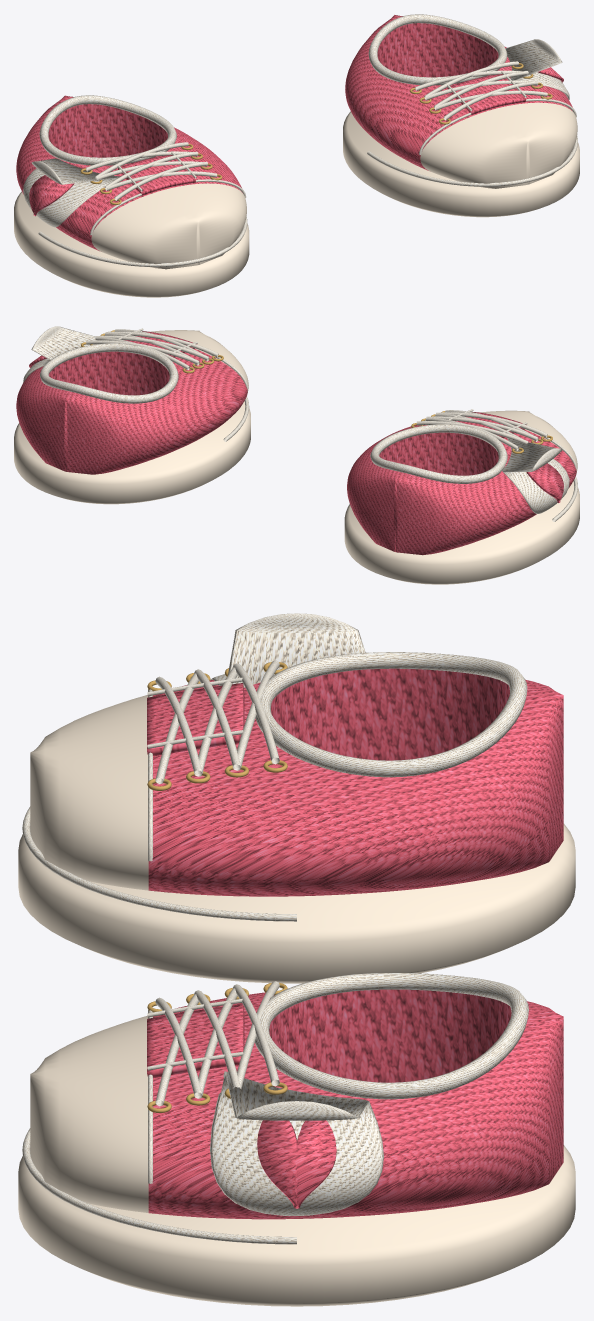
Rendered from restart_shoes_heart_penguin.glb.
The picture shows the model from 3 angles, top to bottom: view 1: azimuth 30°, elevation 25°; view 2: azimuth 150°, elevation 25°; view 3: azimuth 270°, elevation 25°; orthographic projection. The views are drawn at different scales.
Visible parts, largest first — view 1: Calzado · Left · Zapatilla cosida completa, Calzado · Right · Zapatilla cosida completa; view 2: Calzado · Left · Zapatilla cosida completa, Calzado · Right · Zapatilla cosida completa; view 3: Calzado · Right · Zapatilla cosida completa, Calzado · Left · Zapatilla cosida completa.
Part boxes in pixels (x1=…): Calzado · Left · Zapatilla cosida completa: x1=343, y1=14, x2=579, y2=217; Calzado · Right · Zapatilla cosida completa: x1=14, y1=95, x2=249, y2=297; Calzado · Left · Zapatilla cosida completa: x1=14, y1=326, x2=250, y2=504; Calzado · Right · Zapatilla cosida completa: x1=344, y1=409, x2=579, y2=584; Calzado · Right · Zapatilla cosida completa: x1=18, y1=613, x2=575, y2=983; Calzado · Left · Zapatilla cosida completa: x1=18, y1=973, x2=575, y2=1306.
Size of the model in its own units: 0.616 by 0.1199 by 0.2817.
4 materials, 2 textured.
